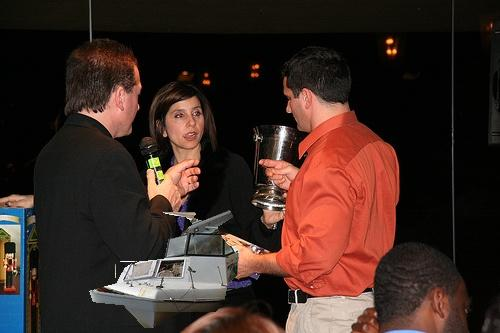tampered: (90, 211, 239, 328)
